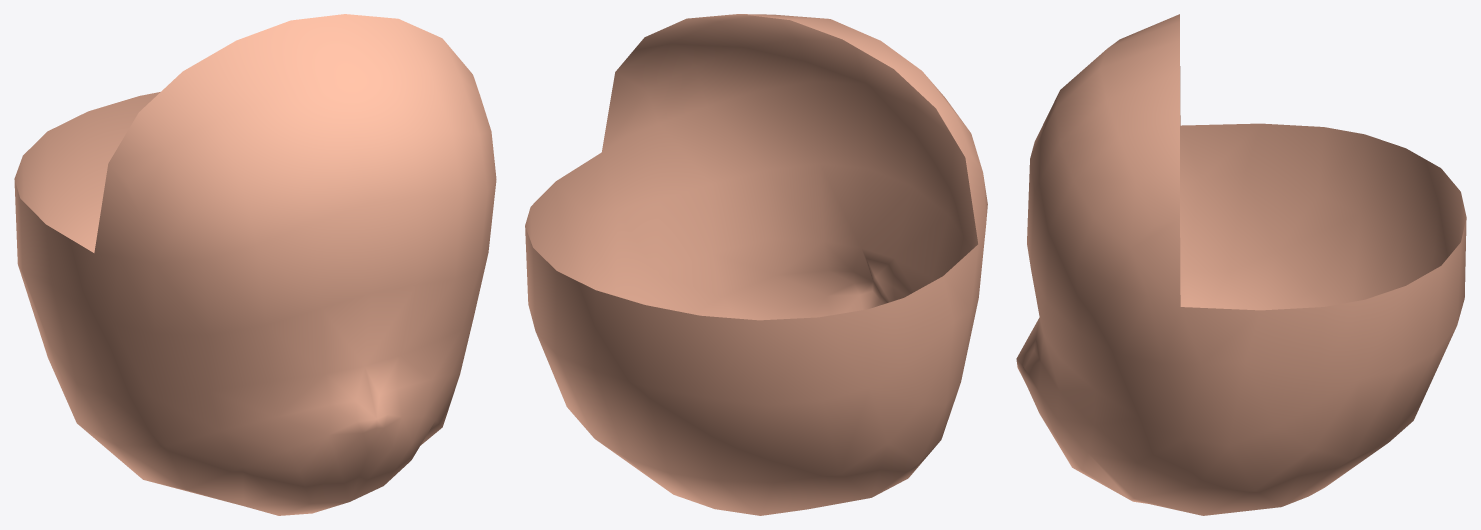
3 views of the same model, side by side, from view 1: azimuth 30°, elevation 25°; view 2: azimuth 150°, elevation 25°; view 3: azimuth 270°, elevation 25° (orthographic). The views are drawn at different scales.
Visible parts, largest first — view 1: AF_M_Face_13; view 2: AF_M_Face_13; view 3: AF_M_Face_13.
Boxes of the visible parts, box(x1,y1,x2,y2) form: AF_M_Face_13: box(14, 14, 496, 515); AF_M_Face_13: box(525, 14, 987, 515); AF_M_Face_13: box(1016, 14, 1466, 515).
Size of the model in its own units: 658 by 734 by 661.
1 material, 1 textured.
